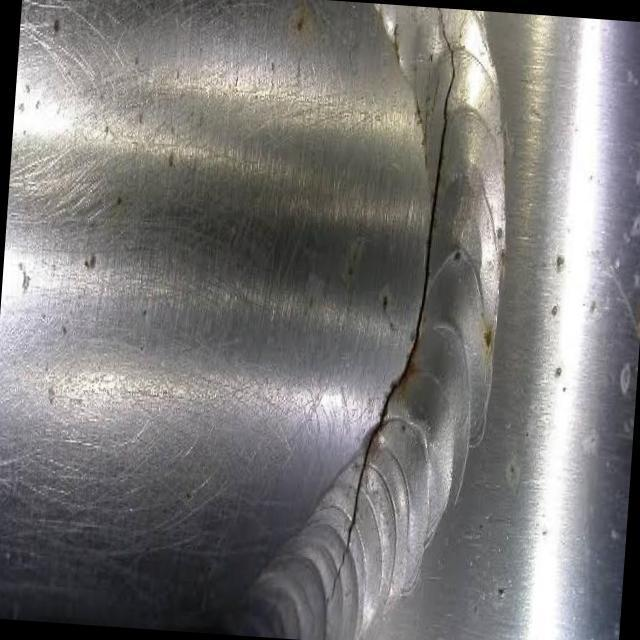defect: (325, 7, 460, 608)
